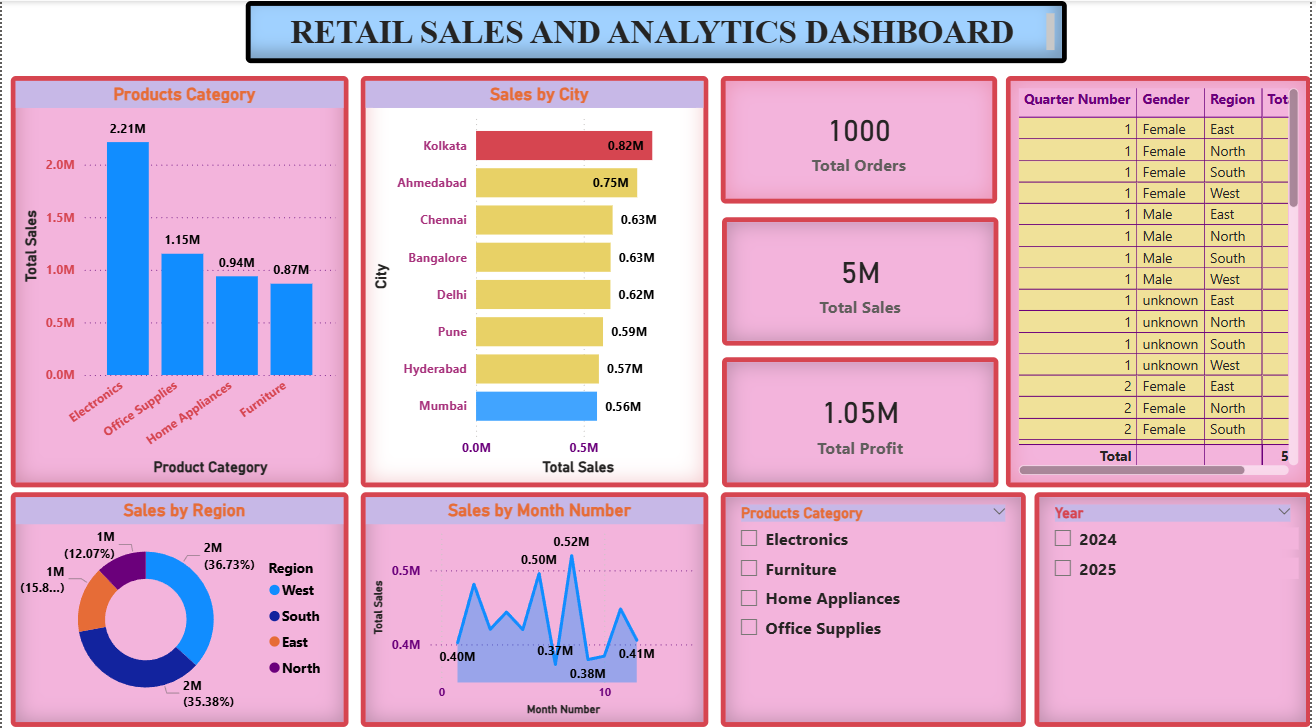

The page's visual inventory and layout, read from the dashboard file:
{"tool":"powerbi","page":{"name":"Page 1","canvas":[1280,720],"ordinal":0},"visuals":[{"type":"card","fields":{"Values":["Sales.Total Orders"]},"box":[703.1,73.4,270.2,124.7],"z":0},{"type":"card","fields":{"Values":["Sales.Total Profit"]},"box":[704.4,348.5,270.2,127.2],"z":1000},{"type":"card","fields":{"Values":["Sales.Total Sales"]},"box":[704.4,211.6,270.2,126],"z":2000},{"type":"clusteredColumnChart","title":"Products Category","fields":{"Category":["Products.Products.Products Category"],"Y":["Sales.Total Sales"]},"box":[8.6,73.4,330.2,402.3],"z":3000},{"type":"lineChart","title":"Sales by Month Number","fields":{"Category":["Calendar.Month Number"],"Y":["Sales.Total Sales"]},"box":[351,480.6,339.9,229.9],"z":4000},{"type":"clusteredBarChart","title":"Sales by City","fields":{"Y":["Sales.Total Sales"],"Category":["Sales.City"]},"box":[351,73.4,339.9,402.3],"z":5000},{"type":"tableEx","fields":{"Values":["Calendar.Quarter Number","Customers.Gender","Regions.Region","Sales.Total Sales"]},"box":[981.9,73.4,298.4,402.3],"z":6000},{"type":"slicer","fields":{"Values":["Products.Products.Products Category"]},"box":[703.1,480.6,298.4,229.9],"z":7000},{"type":"slicer","fields":{"Values":["Calendar.Year"]},"box":[1010.1,480.6,270.2,229.9],"z":8000},{"type":"donutChart","title":"Sales by Region","fields":{"Category":["Regions.Region"],"Y":["Sales.Total Sales"]},"box":[8.6,480.6,330.2,229.9],"z":9000},{"type":"textbox","box":[238.5,0,803.4,61.1],"z":12000}]}

Visuals, with their boxes in screenshot pixels (x1, y1, x2, y2), scaled from the page's 1280x720 canvas onto the 1316x728 screenshot:
card - Sales.Total Orders: BBox(723, 74, 1001, 200)
card - Sales.Total Profit: BBox(724, 352, 1002, 481)
card - Sales.Total Sales: BBox(724, 214, 1002, 341)
"Products Category" clusteredColumnChart: BBox(9, 74, 348, 481)
"Sales by Month Number" lineChart: BBox(361, 486, 710, 718)
"Sales by City" clusteredBarChart: BBox(361, 74, 710, 481)
tableEx - Calendar.Quarter Number x Customers.Gender: BBox(1010, 74, 1315, 481)
slicer - Products.Products.Products Category: BBox(723, 486, 1030, 718)
slicer - Calendar.Year: BBox(1039, 486, 1315, 718)
"Sales by Region" donutChart: BBox(9, 486, 348, 718)
textbox: BBox(245, 0, 1071, 62)
